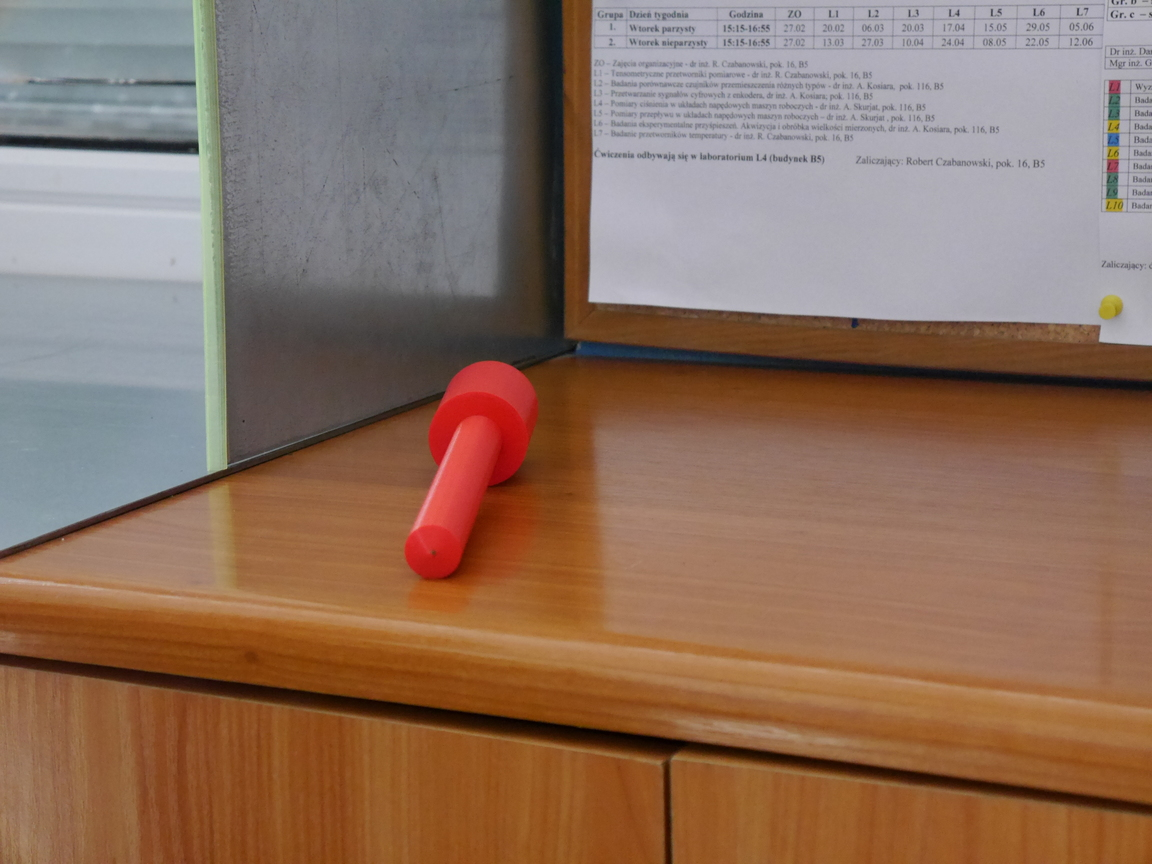cargo_g: (407, 359, 541, 581)
